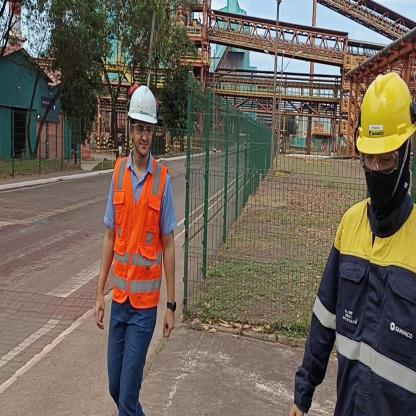Balaclava: (356, 140, 415, 216)
C_eletrica: (296, 211, 416, 416)
Capacete: (352, 67, 416, 154), (128, 81, 161, 123)
colete: (113, 156, 162, 305)
